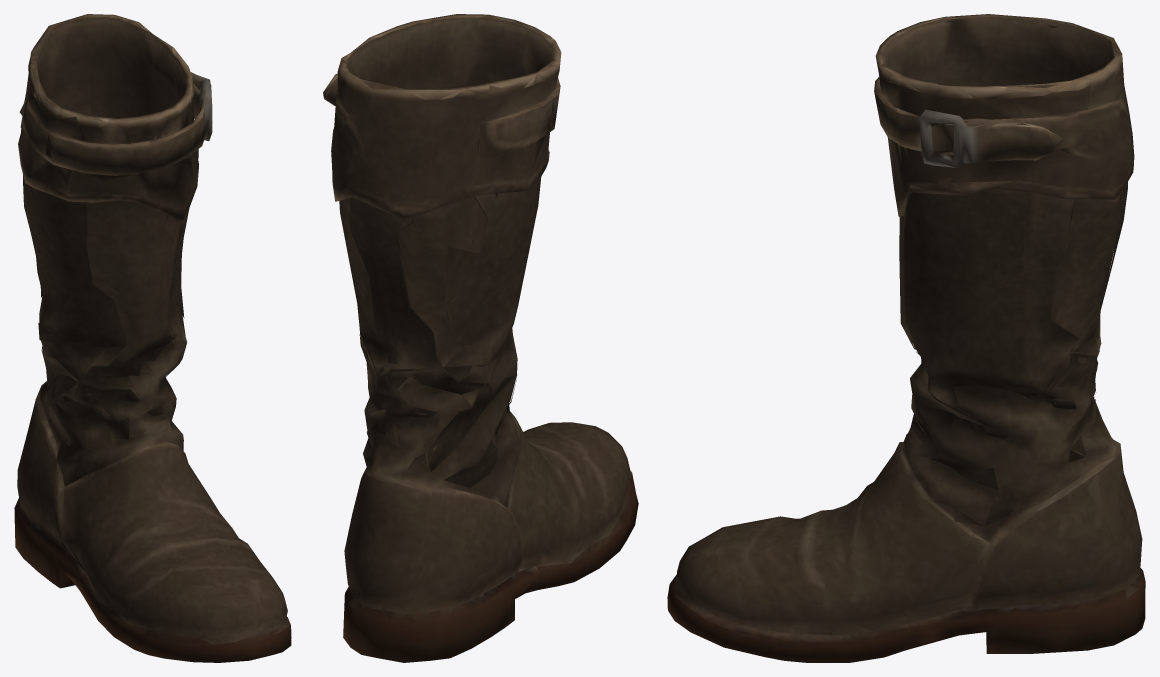
The model's file is leather-boot-8k-v1.glb.
3 renders of one model, left to right at view 1: azimuth 30°, elevation 25°; view 2: azimuth 150°, elevation 25°; view 3: azimuth 270°, elevation 25°, orthographic. The views are drawn at different scales.
Visible parts, largest first — view 1: leather-boot-8k-v1; view 2: leather-boot-8k-v1; view 3: leather-boot-8k-v1.
Part boxes in pixels (left/top/right/bottom): leather-boot-8k-v1: left=14, top=14, right=291, bottom=662; leather-boot-8k-v1: left=323, top=14, right=638, bottom=662; leather-boot-8k-v1: left=667, top=14, right=1145, bottom=662.
Bounding box in the file's own units: 0.3437 × 1 × 0.7465.
Materials: 1 (1 with a texture image).
